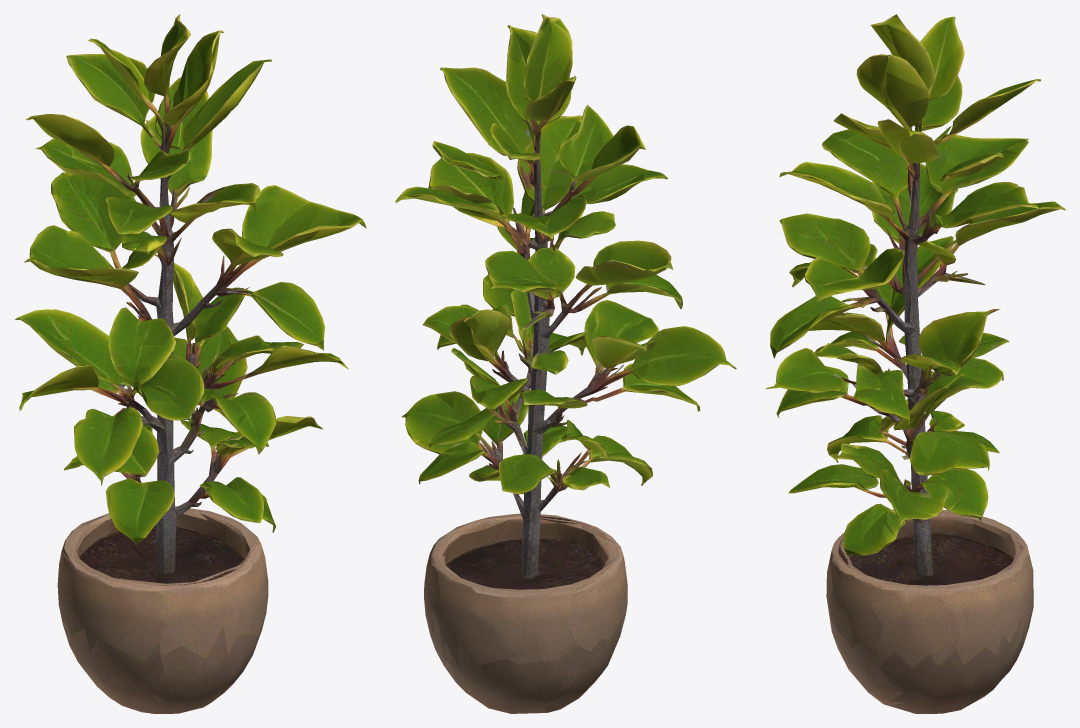
Rendered from fiddle.glb.
3 renders of one model, left to right at view 1: azimuth 30°, elevation 25°; view 2: azimuth 150°, elevation 25°; view 3: azimuth 270°, elevation 25°, orthographic. The views are drawn at different scales.
Visible parts, largest first — view 1: plant; view 2: plant; view 3: plant.
Part boxes in pixels (x1,y1,x2,y2): plant: [15, 14, 366, 713]; plant: [395, 14, 736, 713]; plant: [765, 14, 1065, 713].
Size of the model in its own units: 0.969 by 1.95 by 0.7827.
1 material, 1 textured.
